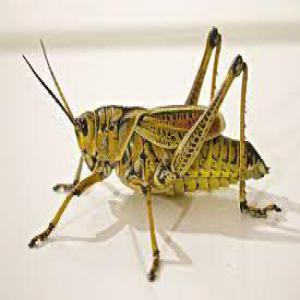locust: (33, 37, 293, 265)
